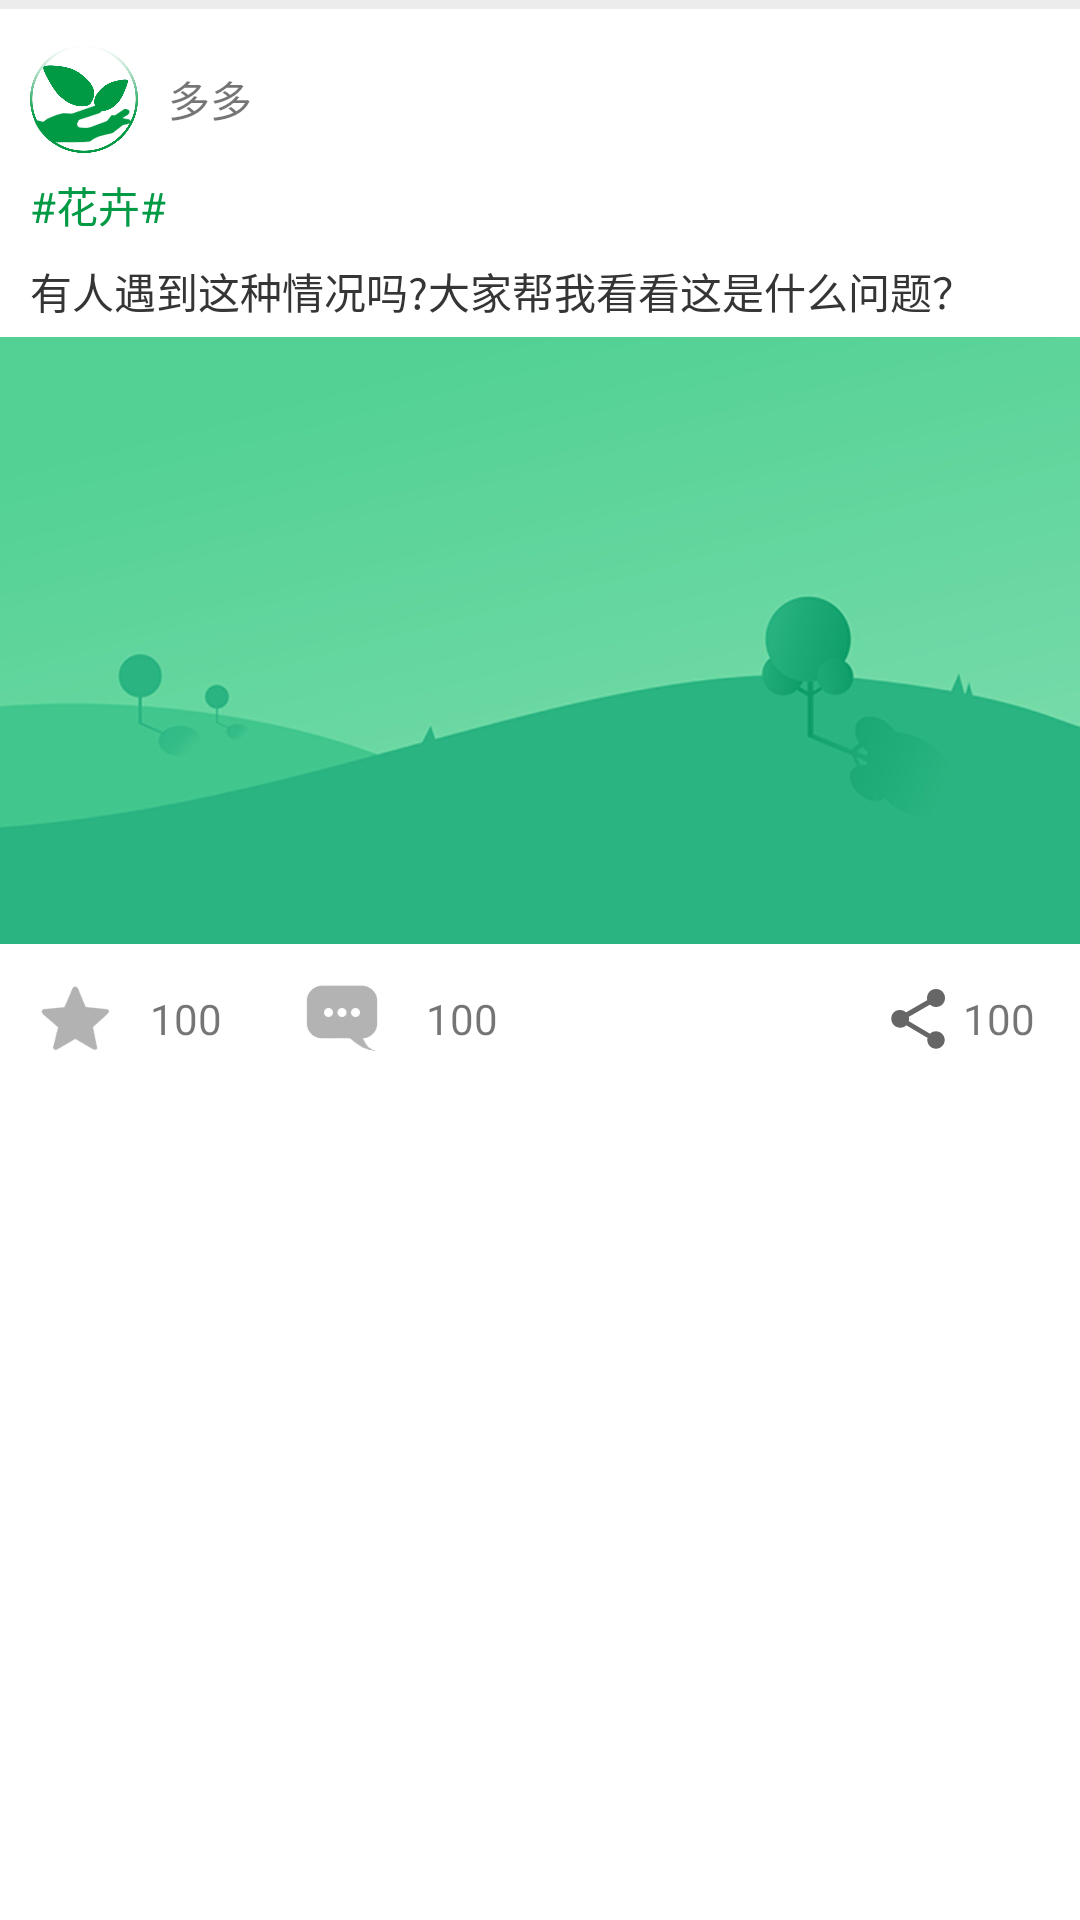

Where icons sit on this 1080px×1920px app screen, as (x1, y1, x2, y2):
comment: (307, 985, 377, 1051)
staroff: (42, 986, 109, 1050)
